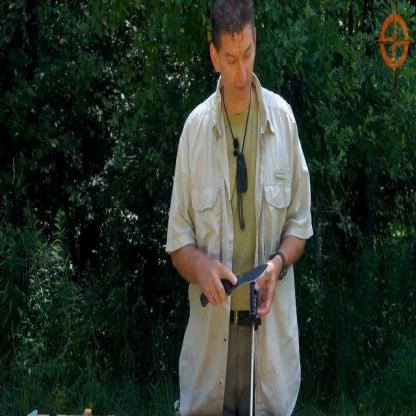Knife: (198, 250, 270, 310)
